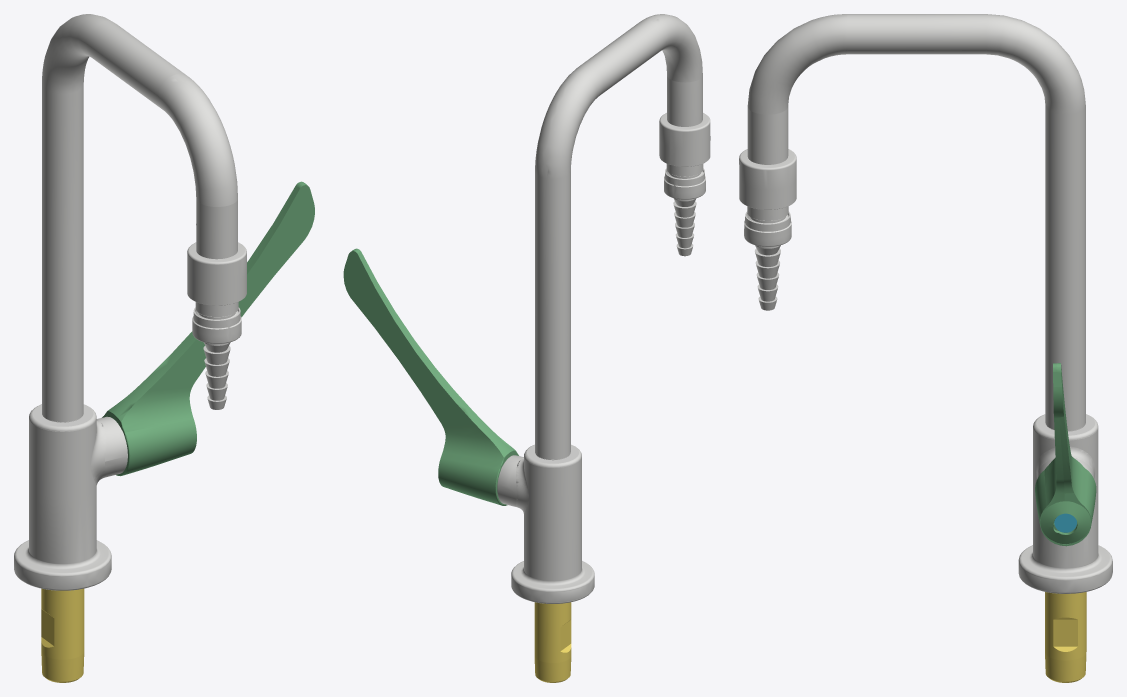
The picture shows the model from 3 angles, left to right: view 1: azimuth 30°, elevation 25°; view 2: azimuth 150°, elevation 25°; view 3: azimuth 270°, elevation 25°; orthographic projection. The views are drawn at different scales.
Parts seen in each view (by area): view 1: Geom3D (×8); view 2: Geom3D (×7); view 3: Geom3D (×9).
Boxes of the visible parts, bbox=[...] form: Geom3D (×8): bbox=[14, 14, 314, 682]; Geom3D (×7): bbox=[343, 14, 710, 682]; Geom3D (×9): bbox=[739, 14, 1112, 682].
Bounding box in the file's own units: 0.3241 × 0.7333 × 0.3765.
